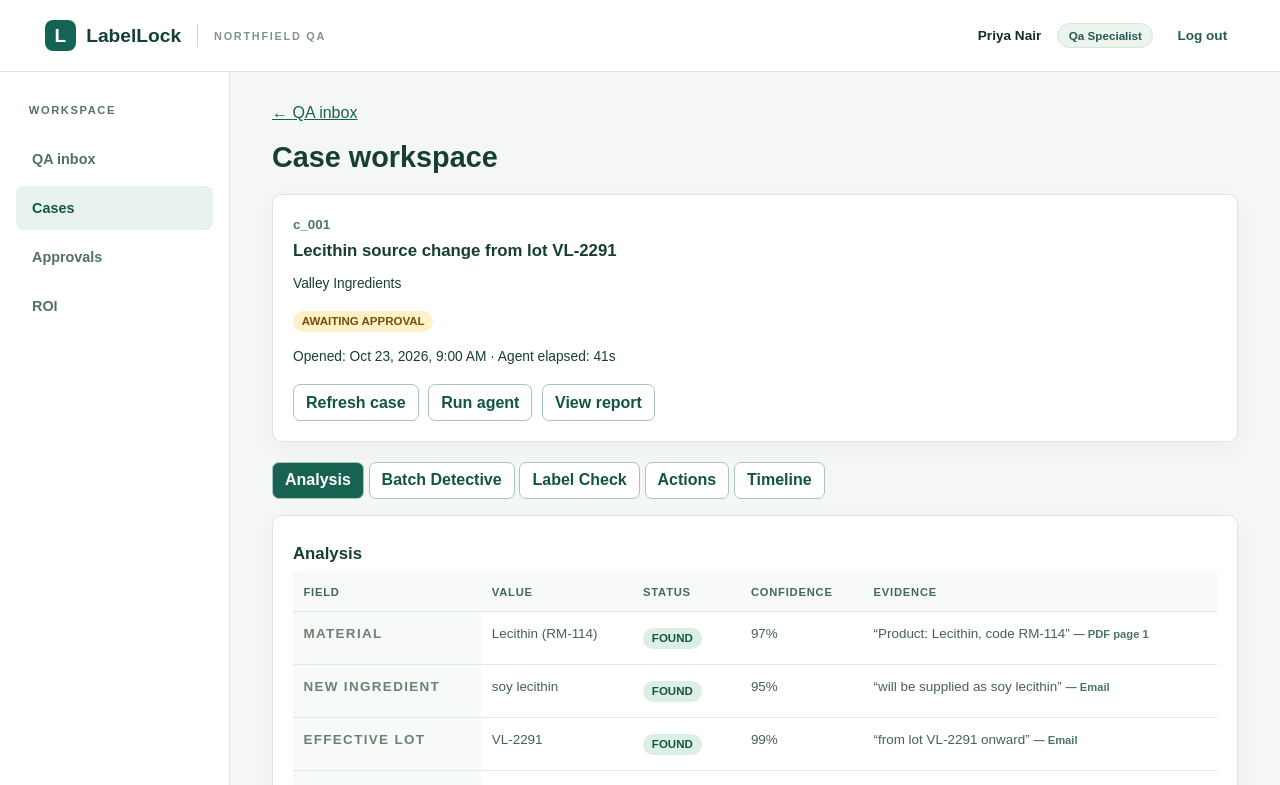
case workspace › polls a background run from analyzing to awaiting approval
The image size is (1280, 785).
Click the button "Run agent" at {"x": 480, "y": 403}, box [428,384,532,421]
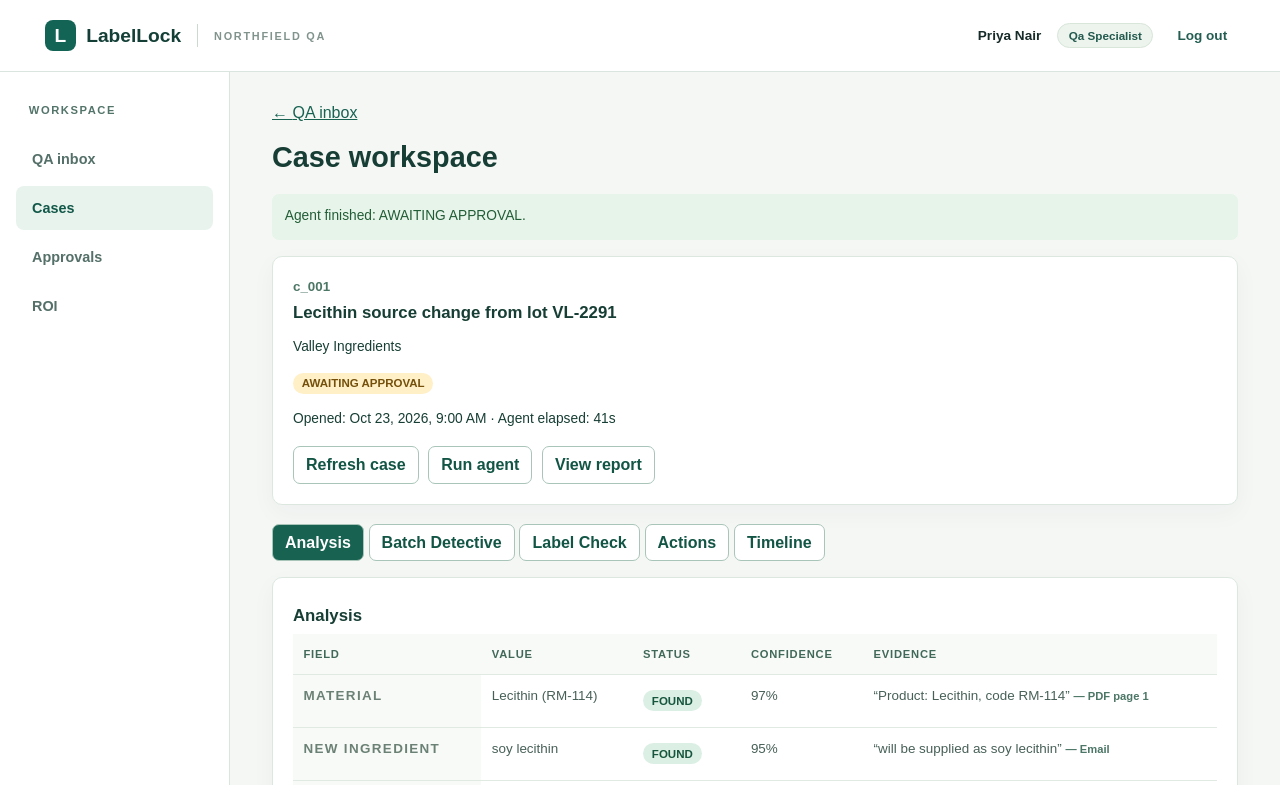
Check: the text "AWAITING APPROVAL" is shown, box [293,373,433,394]
Check: the message shows "Agent finished", box [285,208,526,223]
